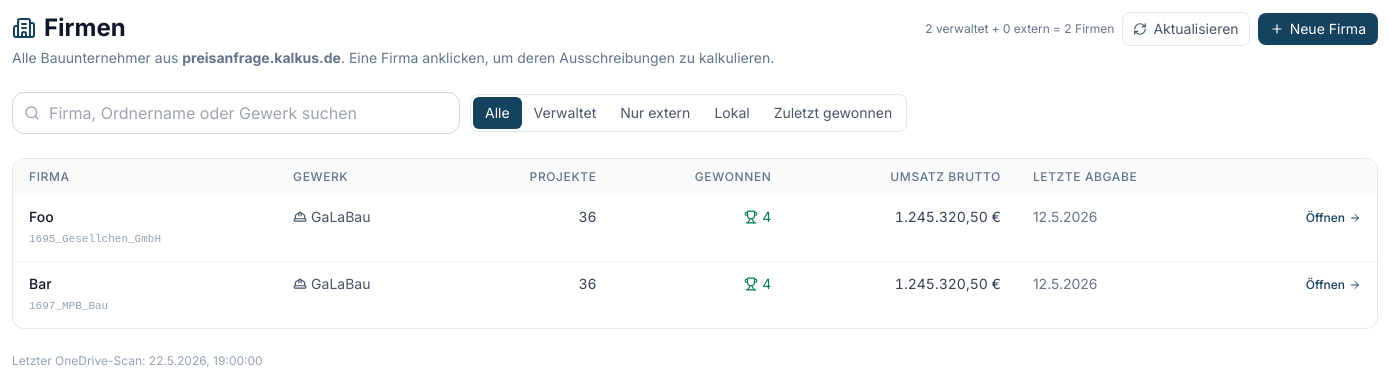
Test: Firmen.tsx — filters › search box filters by folder name
Expected: the link "Foo" is shown, [29,208,54,225]
Type "1697" into the search field named "Firmen durchsuchen" at (236, 113), box [12,92,460,134]
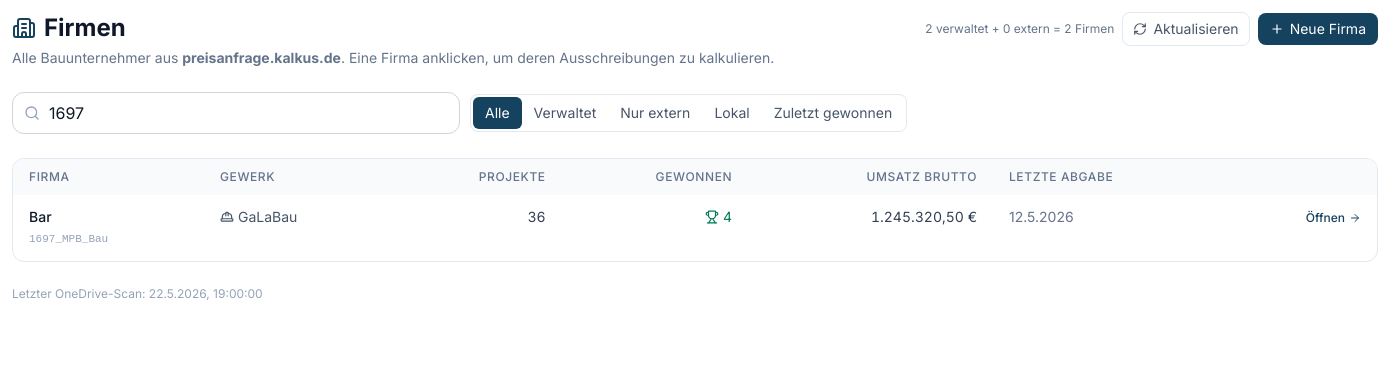
Expected: the link "Bar" is shown, [29,208,52,225]
Result: the link "Foo" is gone
